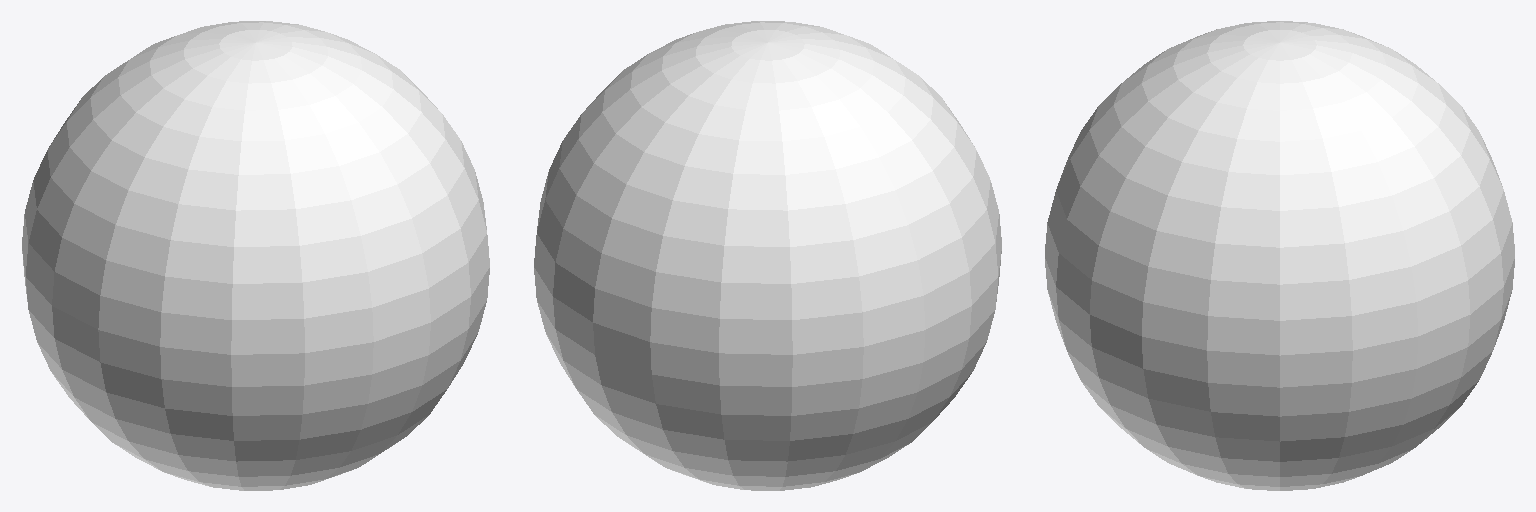
Rendered from guevo.obj.
3 views of the same model, side by side, from view 1: azimuth 30°, elevation 25°; view 2: azimuth 150°, elevation 25°; view 3: azimuth 270°, elevation 25° (orthographic).
Visible parts, largest first — view 1: unnamed_object1; view 2: unnamed_object1; view 3: unnamed_object1.
Boxes of the visible parts, x1=… form: unnamed_object1: x1=22, y1=21, x2=489, y2=490; unnamed_object1: x1=534, y1=21, x2=1001, y2=490; unnamed_object1: x1=1045, y1=21, x2=1514, y2=490.
Size of the model in its own units: 200 by 200 by 200.